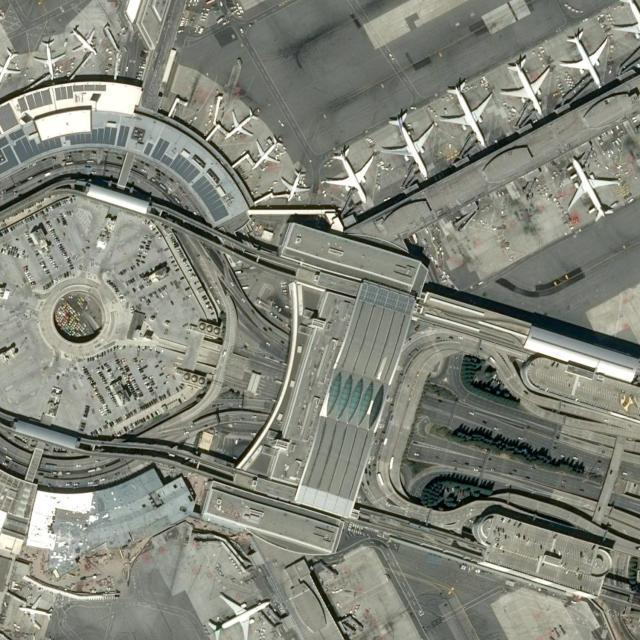Aircraft: (441, 78, 493, 146), (566, 155, 619, 221), (386, 110, 437, 178), (499, 53, 551, 115), (205, 593, 275, 637), (326, 147, 378, 203), (562, 27, 610, 87), (35, 39, 65, 77), (254, 136, 284, 172), (71, 22, 101, 58), (617, 0, 640, 46), (0, 46, 24, 88), (228, 108, 259, 140), (281, 168, 311, 200)
